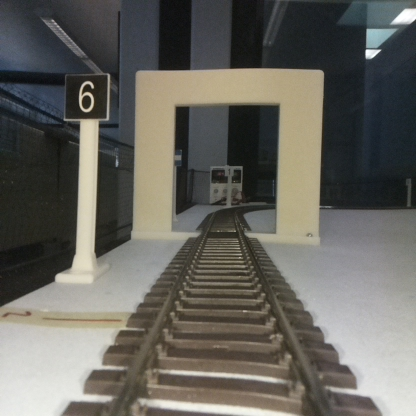black-info-6: (65, 74, 108, 280)
white-info-1: (225, 166, 233, 206)
